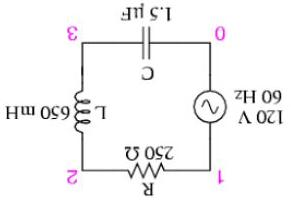Capacitor: (127, 22, 164, 63)
